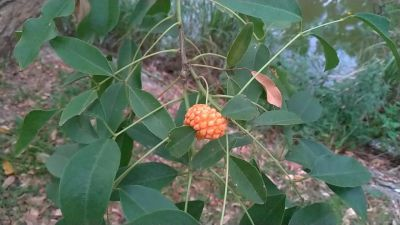eggs: (182, 100, 229, 140)
